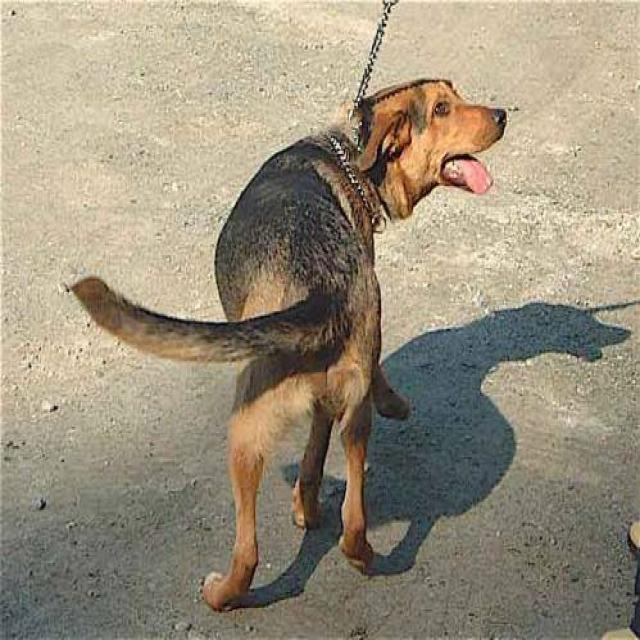dog: (62, 75, 506, 613)
